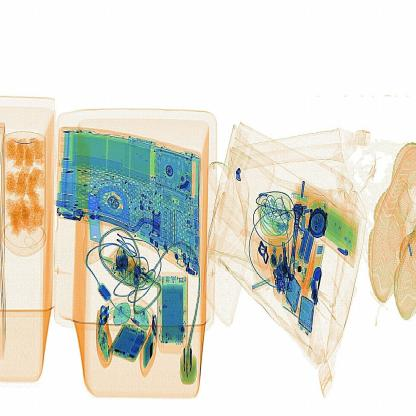pliers: (78, 188, 104, 262)
